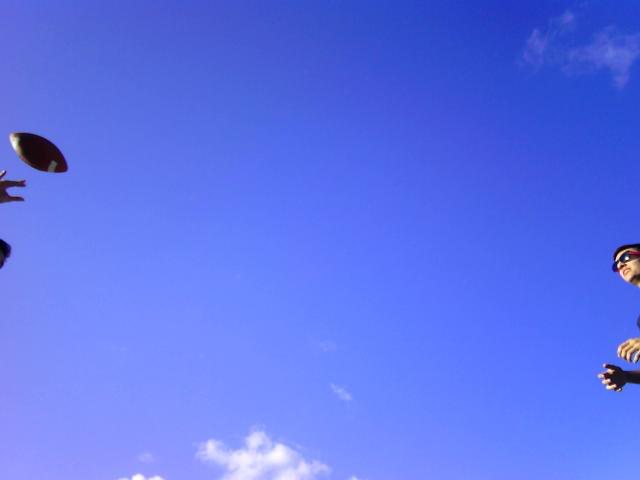football: (9, 131, 70, 175)
